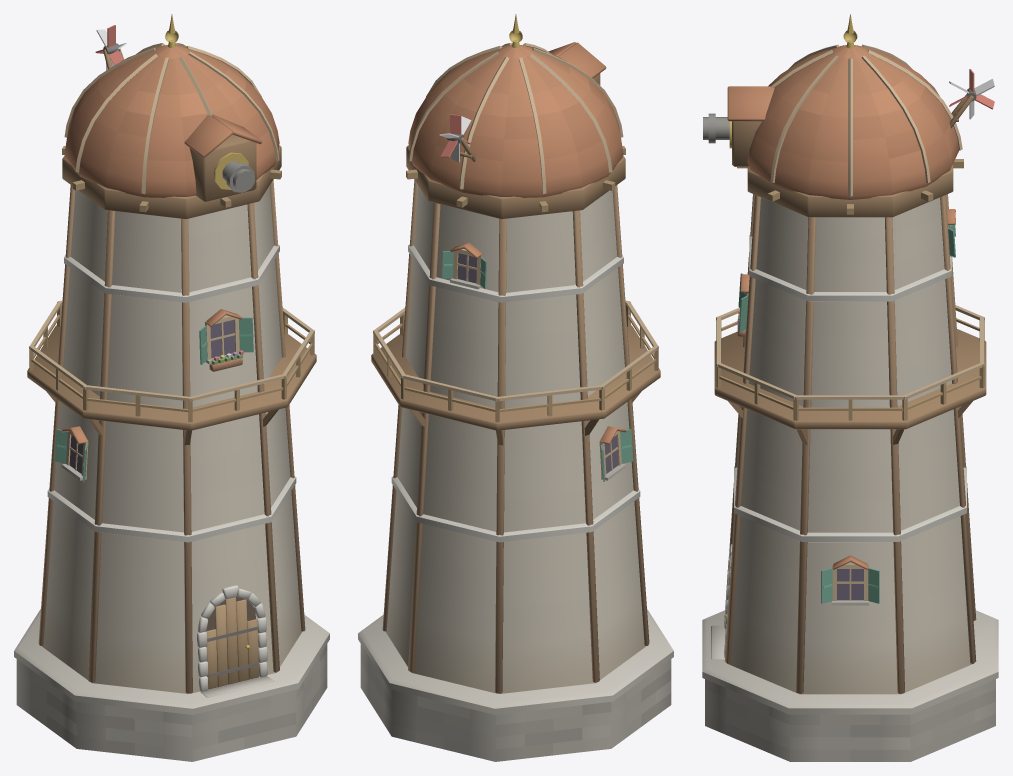
File: windmill_tower.glb
The picture shows the model from 3 angles, left to right: view 1: azimuth 30°, elevation 25°; view 2: azimuth 150°, elevation 25°; view 3: azimuth 270°, elevation 25°; orthographic projection.
Parts seen in each view (by area): view 1: windmill_tower; view 2: windmill_tower; view 3: windmill_tower.
Part boxes in pixels (x1,y1,x2,y2): windmill_tower: (14, 14, 329, 761); windmill_tower: (358, 14, 673, 761); windmill_tower: (702, 14, 998, 761).
Size of the model in its own units: 30.5 by 78 by 30.5.
